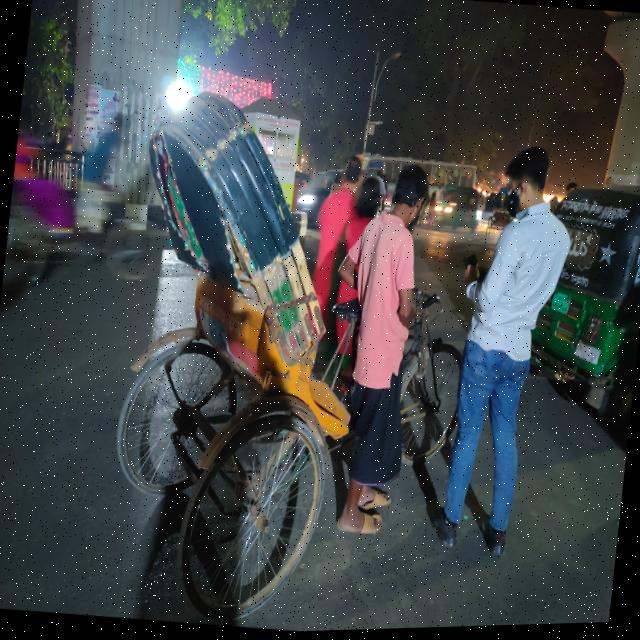rikshaw: (88, 47, 554, 592)
